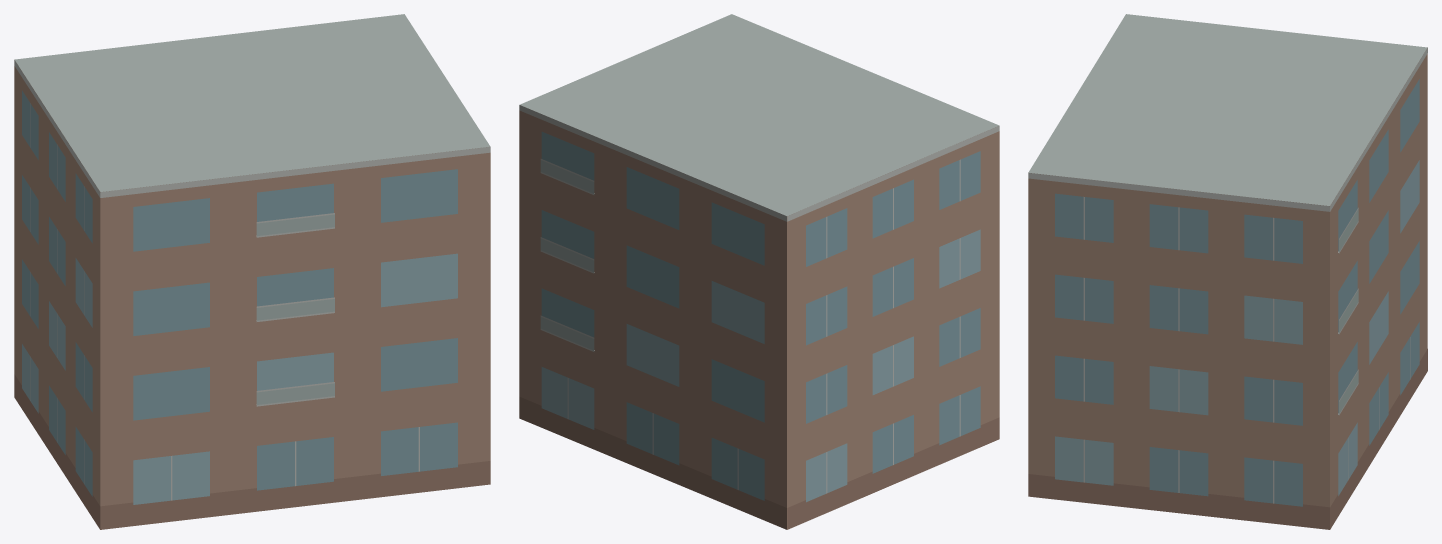
File: survey-upis-32825679.glb
3 views of the same model, side by side, from view 1: azimuth 30°, elevation 25°; view 2: azimuth 150°, elevation 25°; view 3: azimuth 270°, elevation 25° (orthographic). The views are drawn at different scales.
Visible parts, largest first — view 1: survey-upis-32825679.tmp; view 2: survey-upis-32825679.tmp; view 3: survey-upis-32825679.tmp.
Part boxes in pixels (x1,y1,x2,y2): survey-upis-32825679.tmp: (14, 14, 490, 529); survey-upis-32825679.tmp: (519, 14, 999, 529); survey-upis-32825679.tmp: (1028, 14, 1427, 529).
Bounding box in the file's own units: 17.42 × 13.68 × 15.3.
